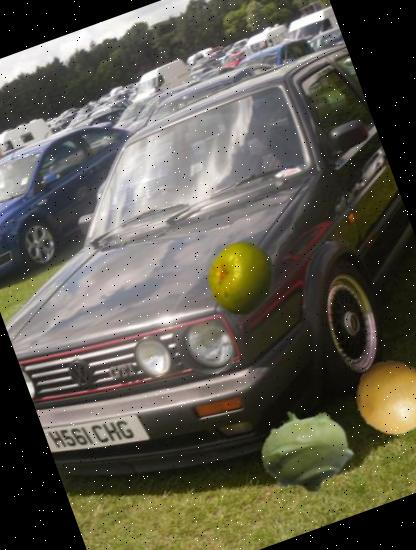Grapefruit: (344, 348, 416, 447)
Kohlrabi: (245, 390, 368, 512)
Pomelo: (195, 230, 290, 325)
